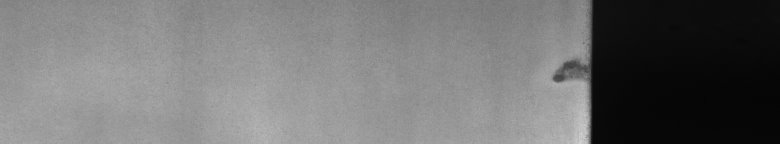hb: (548, 49, 580, 89)
